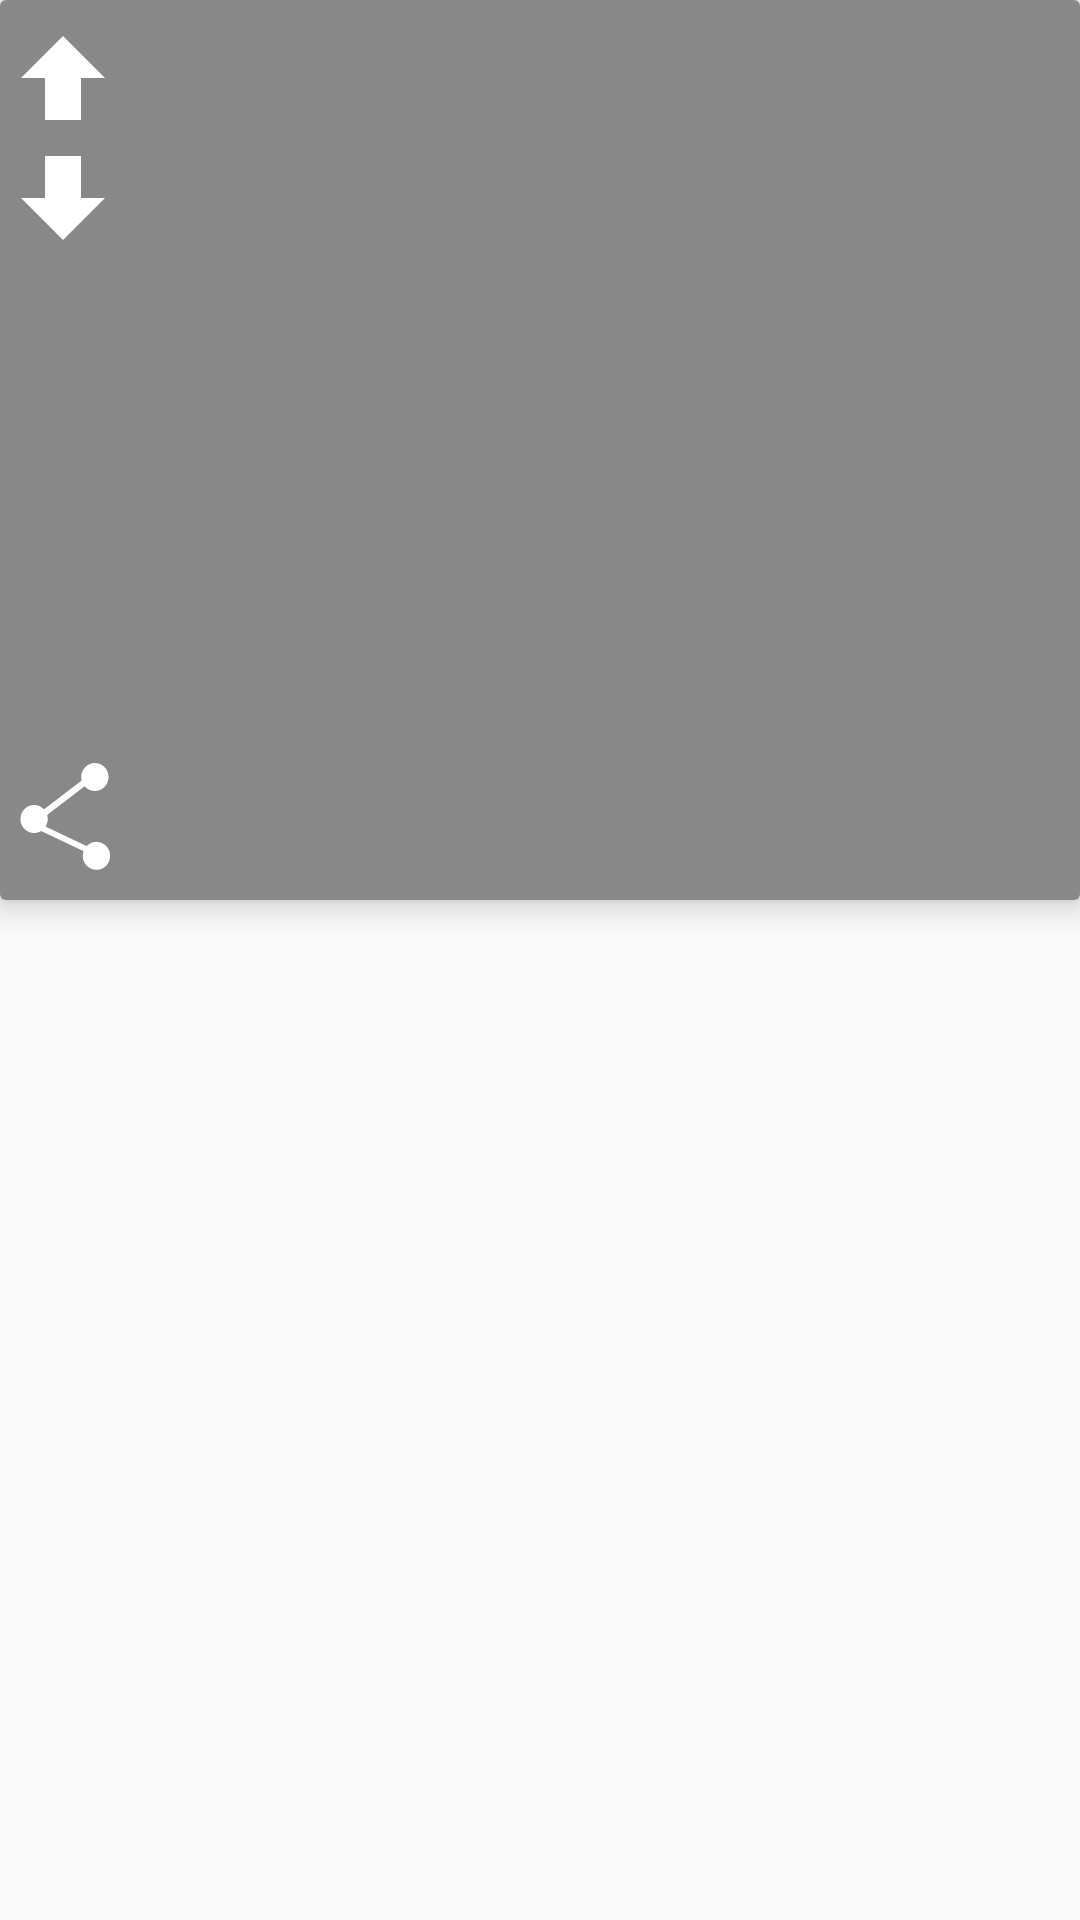

Where icons sit on this 1080px×1920px app screen, as detection(x1, y1, x2, y2):
Downvote: detection(21, 156, 105, 240)
Share: detection(20, 763, 110, 870)
Upvote: detection(21, 36, 105, 120)
